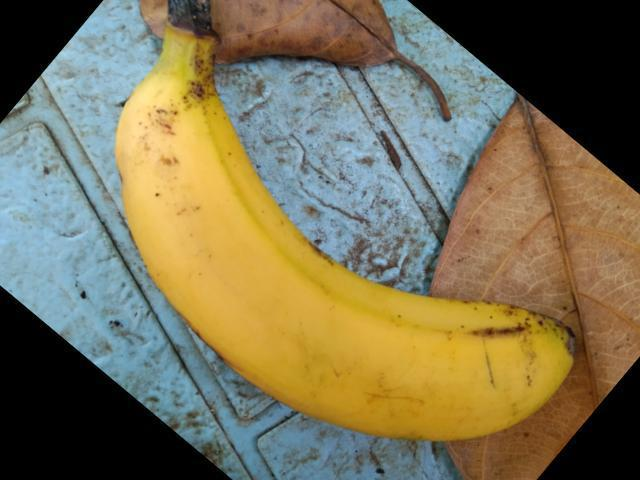ripe: (107, 47, 565, 468)
